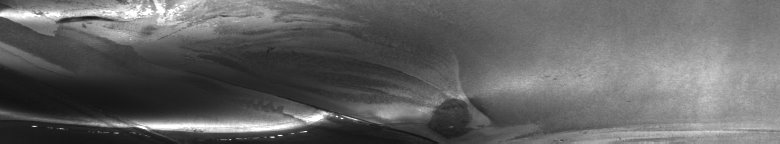ke: (52, 4, 772, 136)
